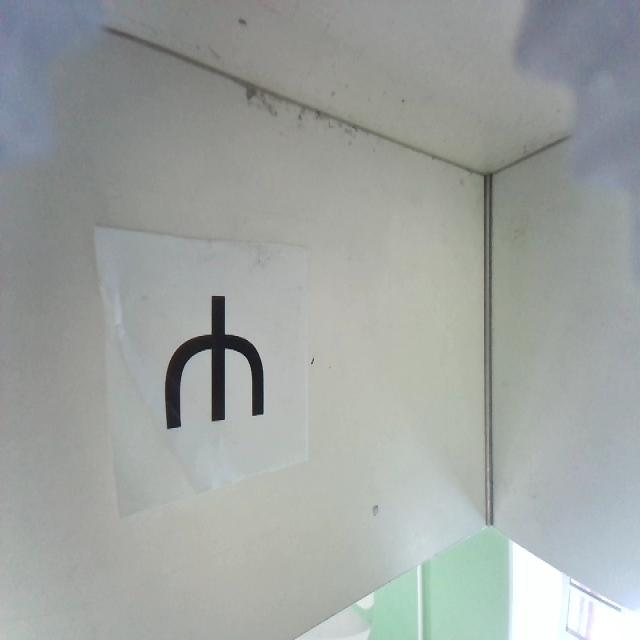nedoF: (164, 293, 266, 431)
